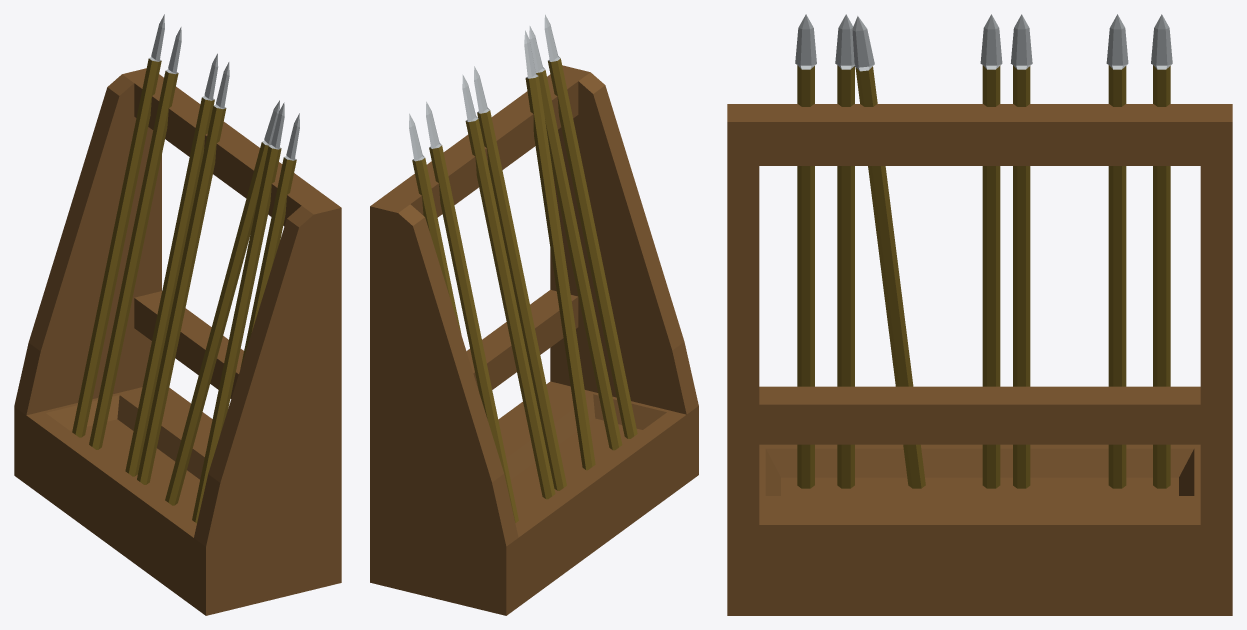
File: spear rack.fbx
3 renders of one model, left to right at view 1: azimuth 30°, elevation 25°; view 2: azimuth 150°, elevation 25°; view 3: azimuth 270°, elevation 25°, orthographic. The views are drawn at different scales.
Visible parts, largest first — view 1: Spear Rack; view 2: Spear Rack; view 3: Spear Rack.
Boxes of the visible parts, bbox=[...] form: Spear Rack: bbox=[14, 14, 341, 615]; Spear Rack: bbox=[370, 14, 698, 615]; Spear Rack: bbox=[727, 14, 1232, 615].
Size of the model in its own units: 112 by 357 by 275.
